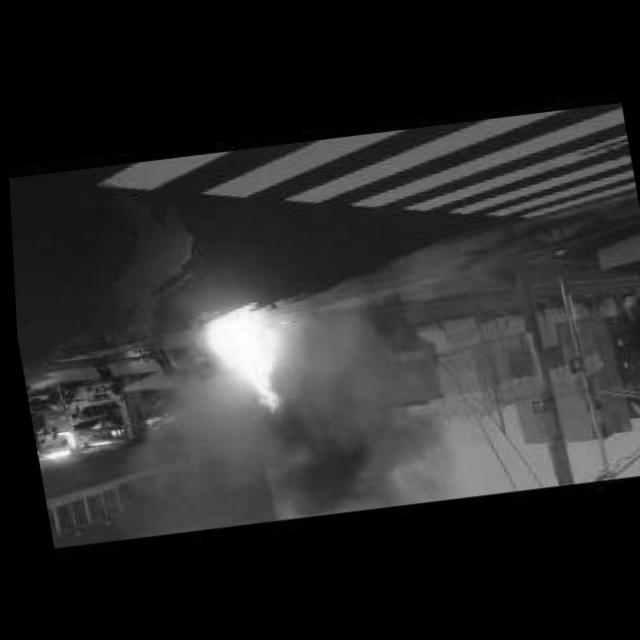Fire: (254, 386, 365, 526), (194, 320, 300, 418)
